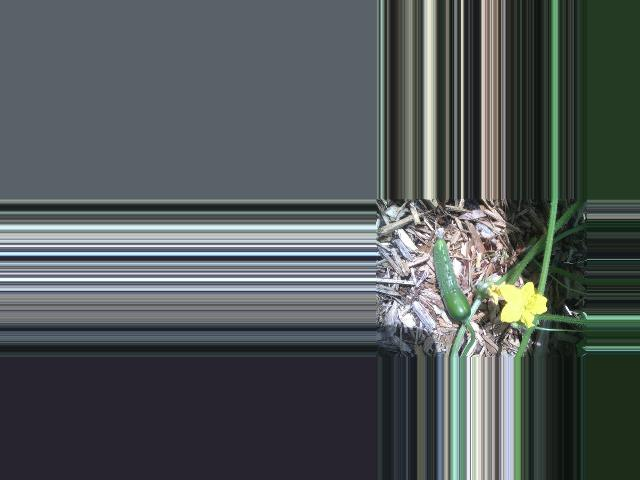cucumber: (432, 230, 471, 322)
